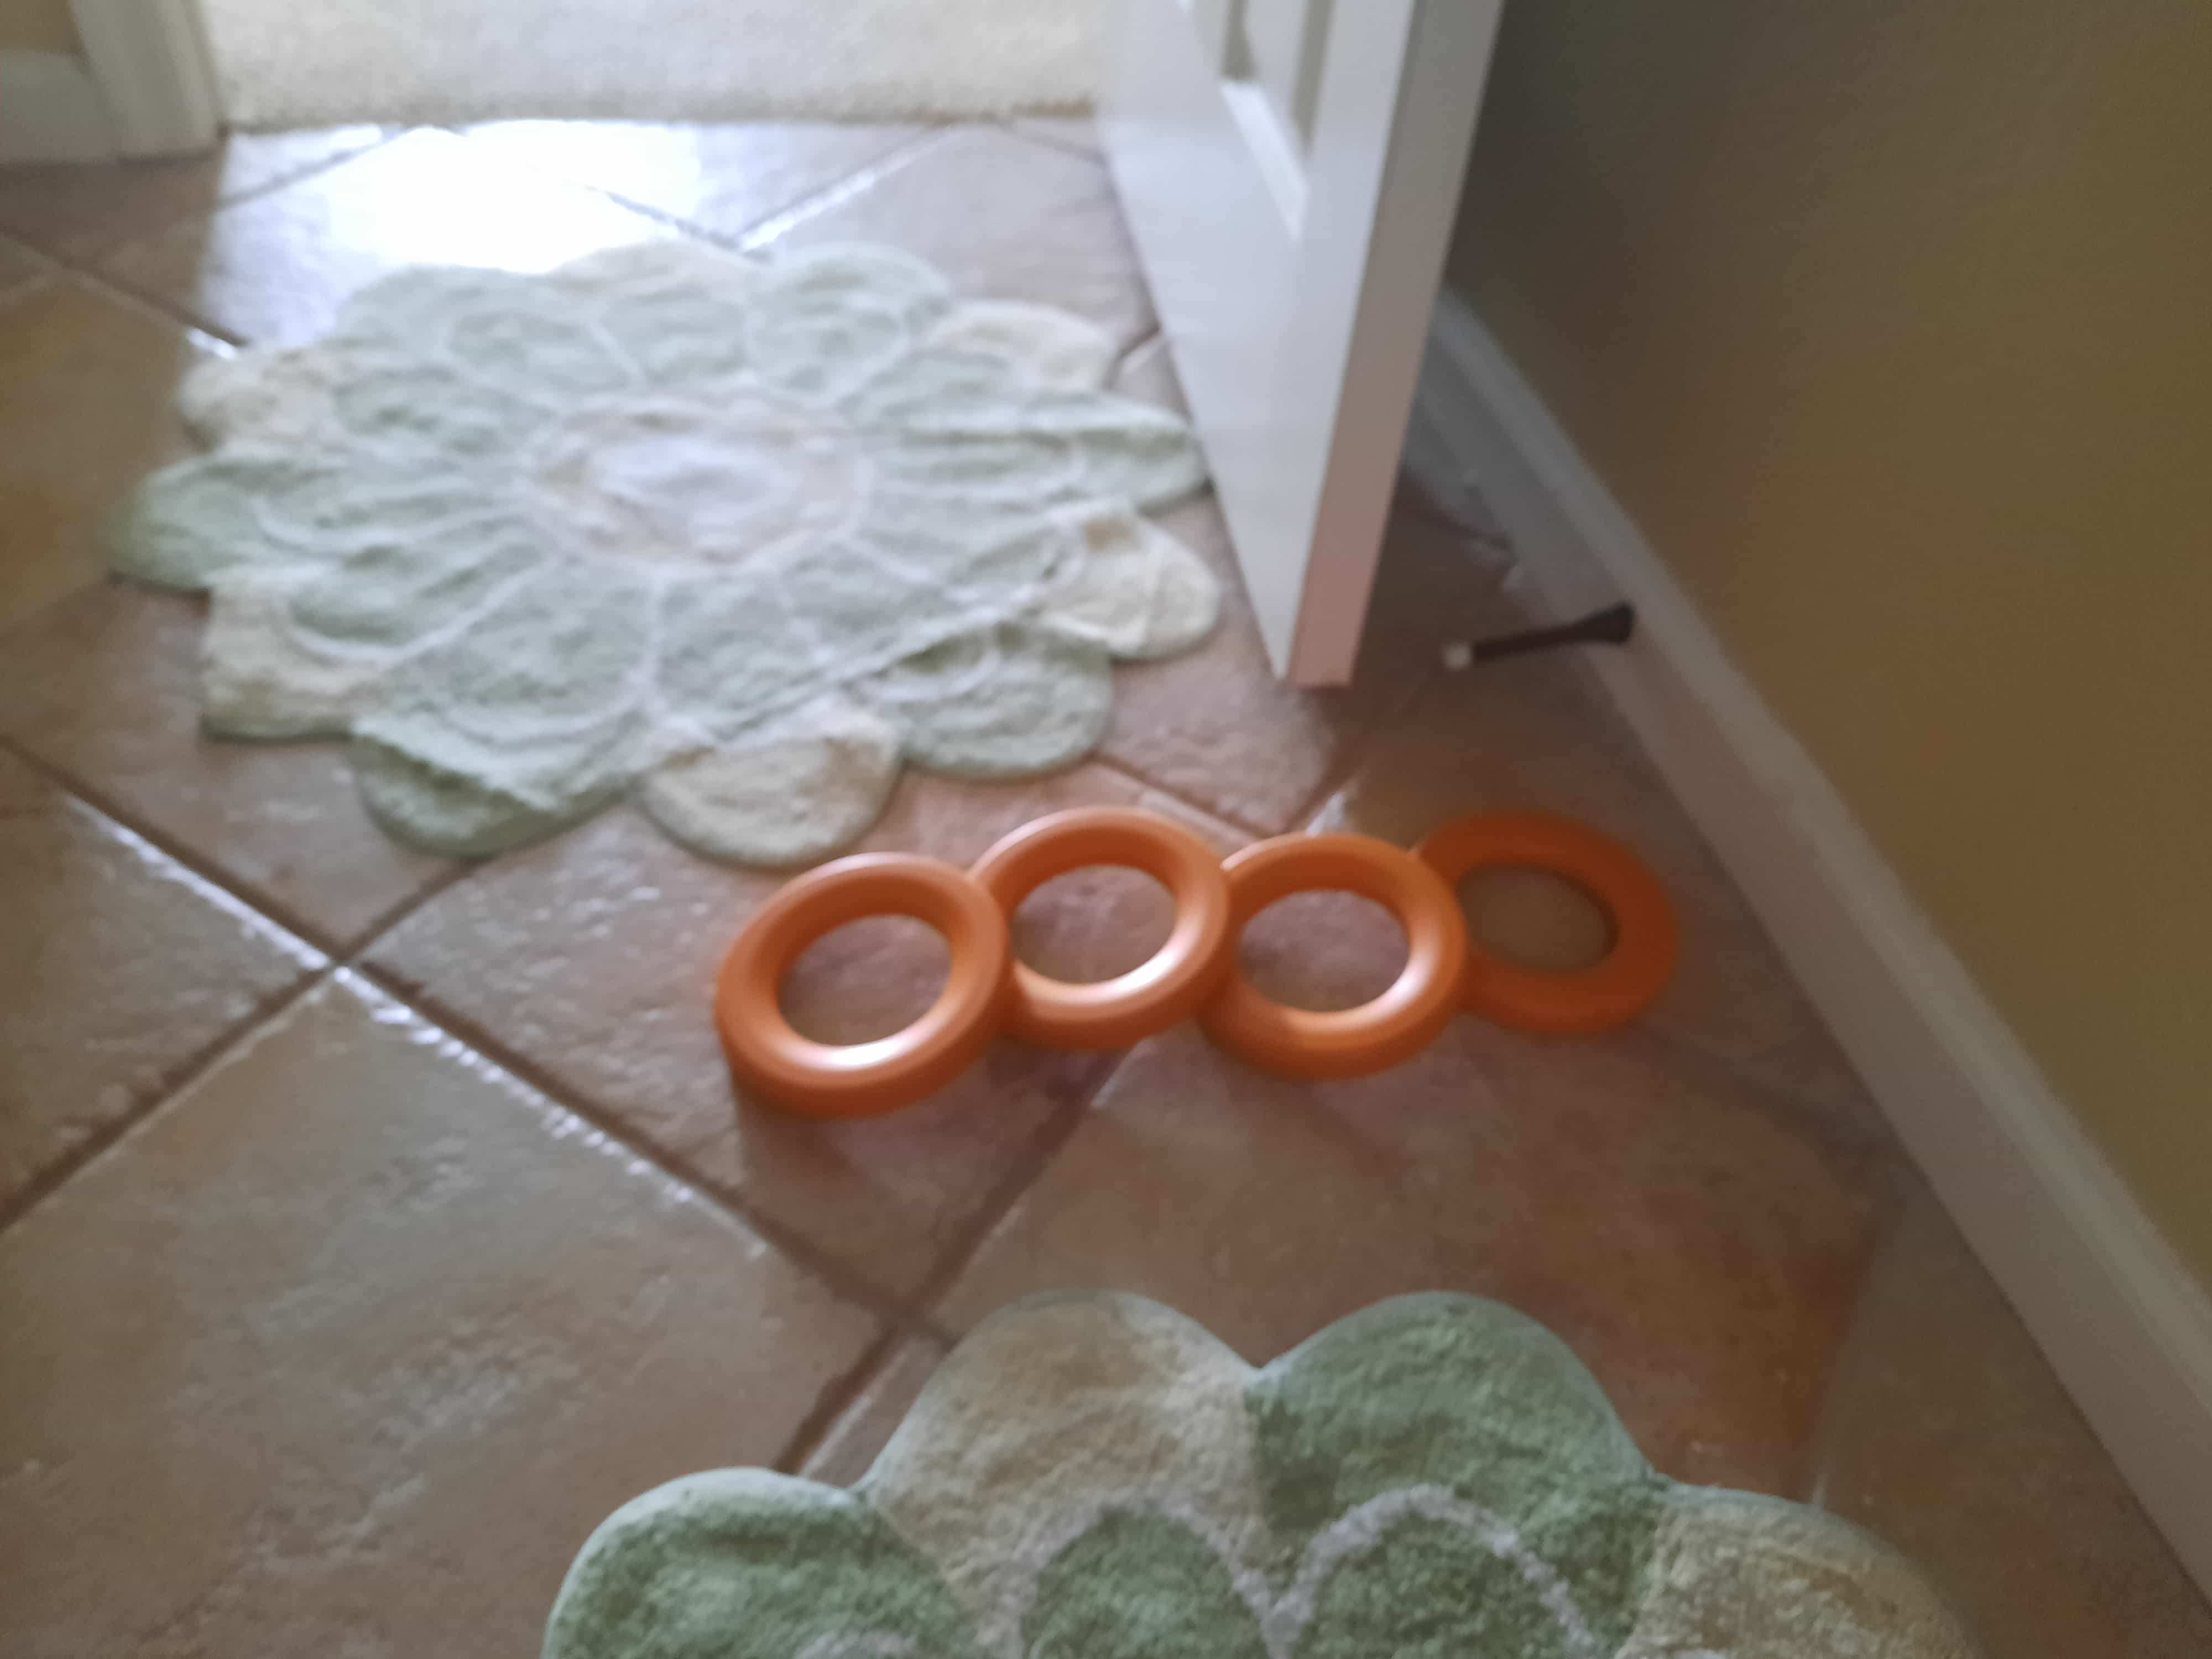OneStack: (1211, 821, 1463, 1087), (721, 856, 989, 1093), (970, 805, 1230, 1044), (1416, 816, 1676, 1035)
